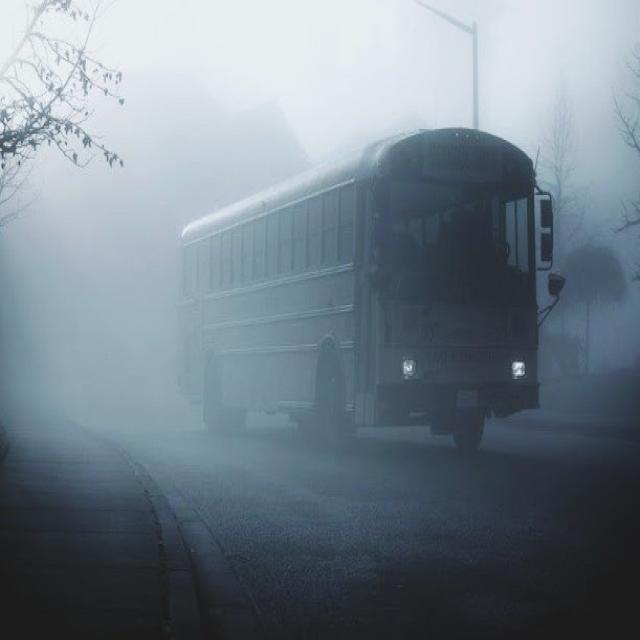Bus: (174, 124, 563, 460)
